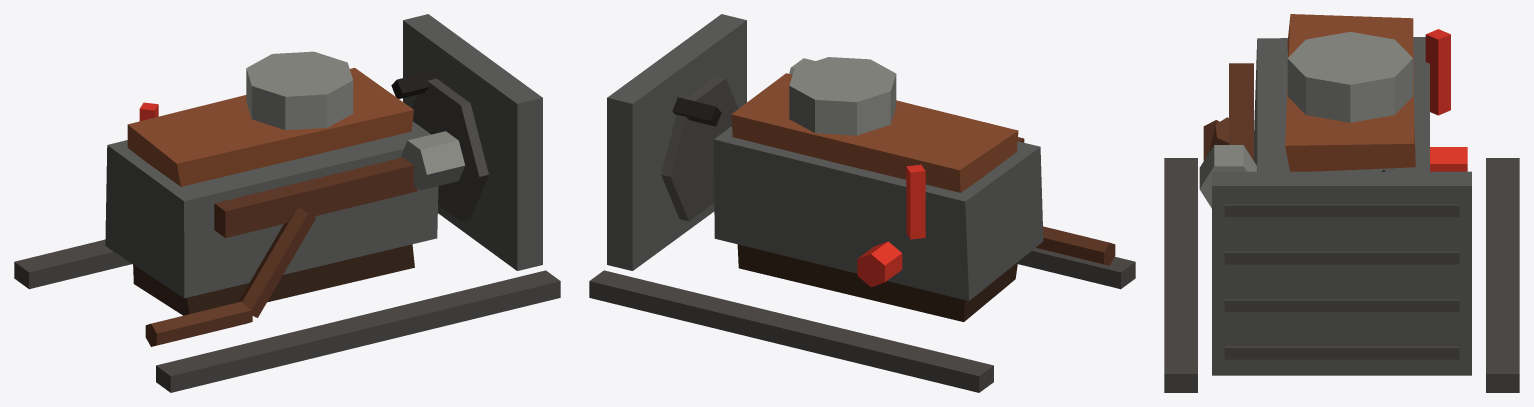
File: eng_stock.glb
3 renders of one model, left to right at view 1: azimuth 30°, elevation 25°; view 2: azimuth 150°, elevation 25°; view 3: azimuth 270°, elevation 25°, orthographic. The views are drawn at different scales.
Visible parts, largest first — view 1: eng_stock; view 2: eng_stock; view 3: eng_stock.
Boxes of the visible parts, bbox=[...] form: eng_stock: bbox=[14, 14, 560, 392]; eng_stock: bbox=[589, 14, 1135, 392]; eng_stock: bbox=[1164, 14, 1519, 392].
Bounding box in the file's own units: 1.24 × 0.62 × 0.848.
